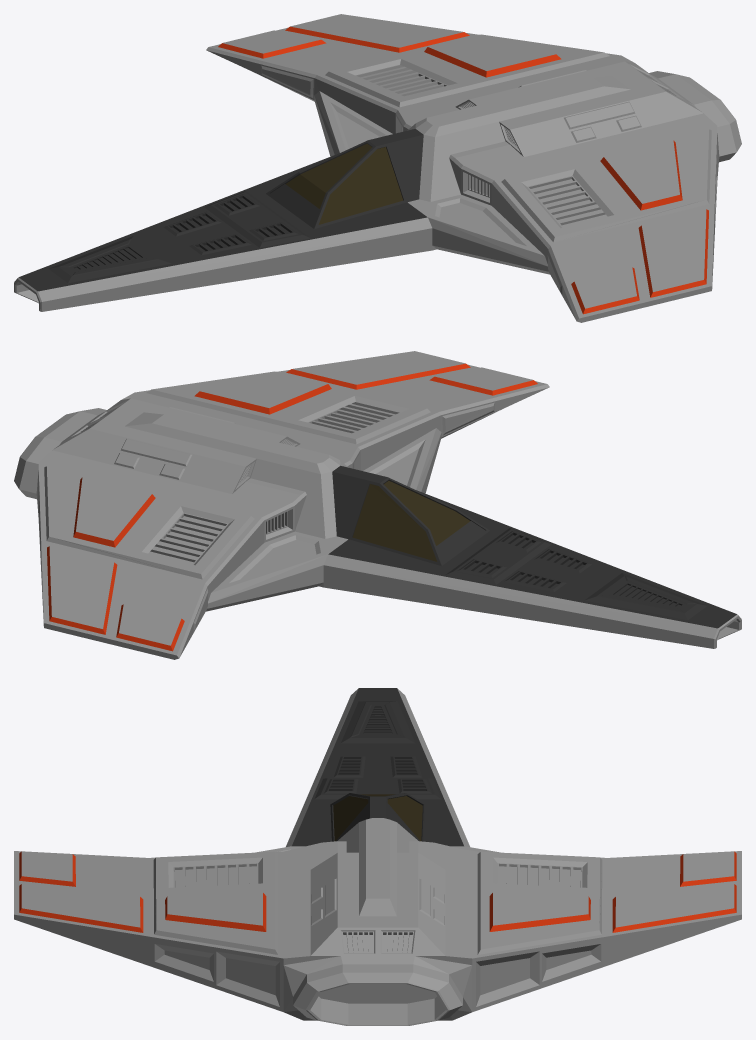
File: Starfighter001.FBX
3 renders of one model, top to bottom at view 1: azimuth 30°, elevation 25°; view 2: azimuth 150°, elevation 25°; view 3: azimuth 270°, elevation 25°, orthographic.
Size of the model in its own units: 415 by 52.28 by 393.
